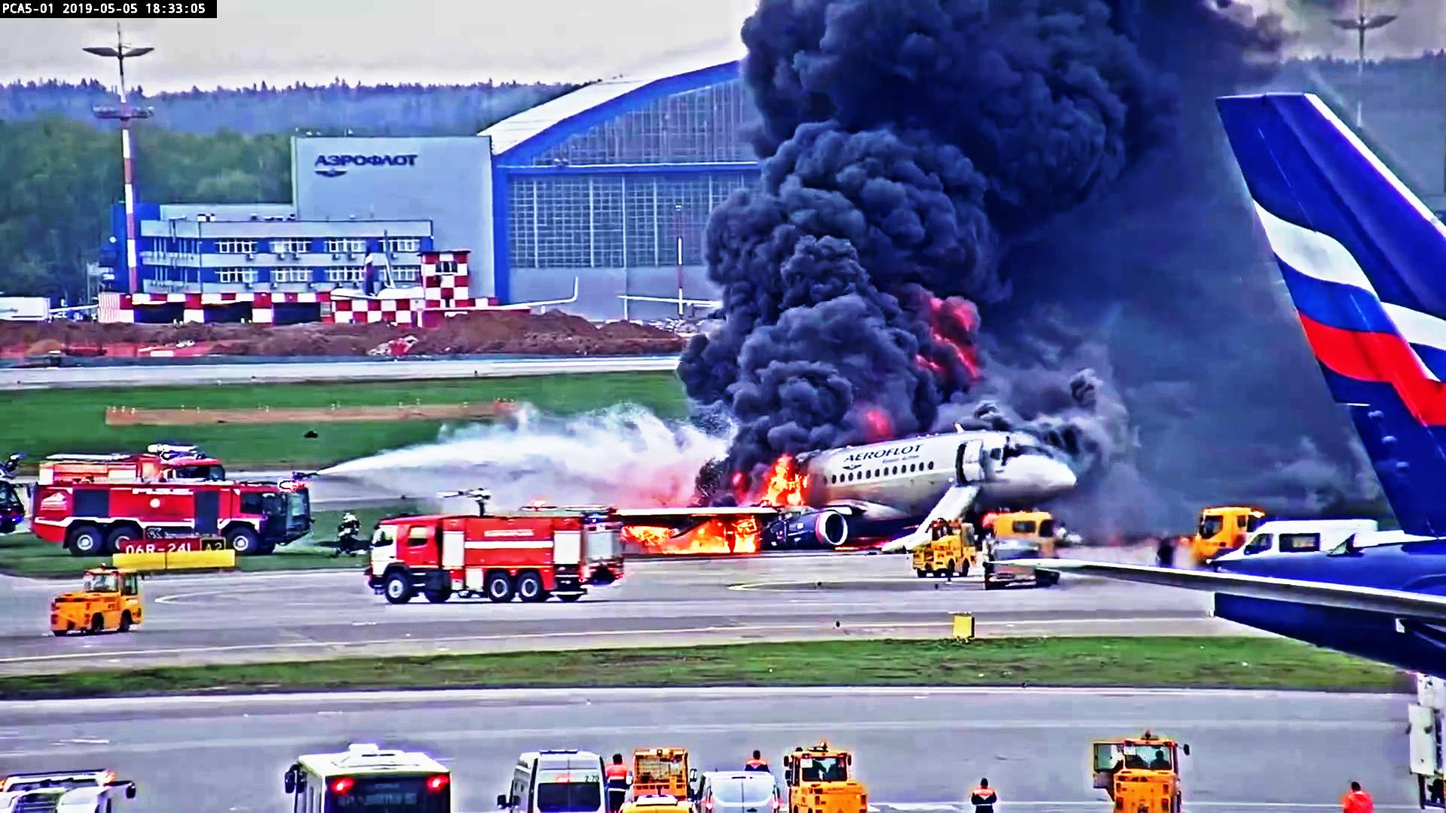smoke: (764, 0, 1156, 228), (719, 126, 983, 438)
